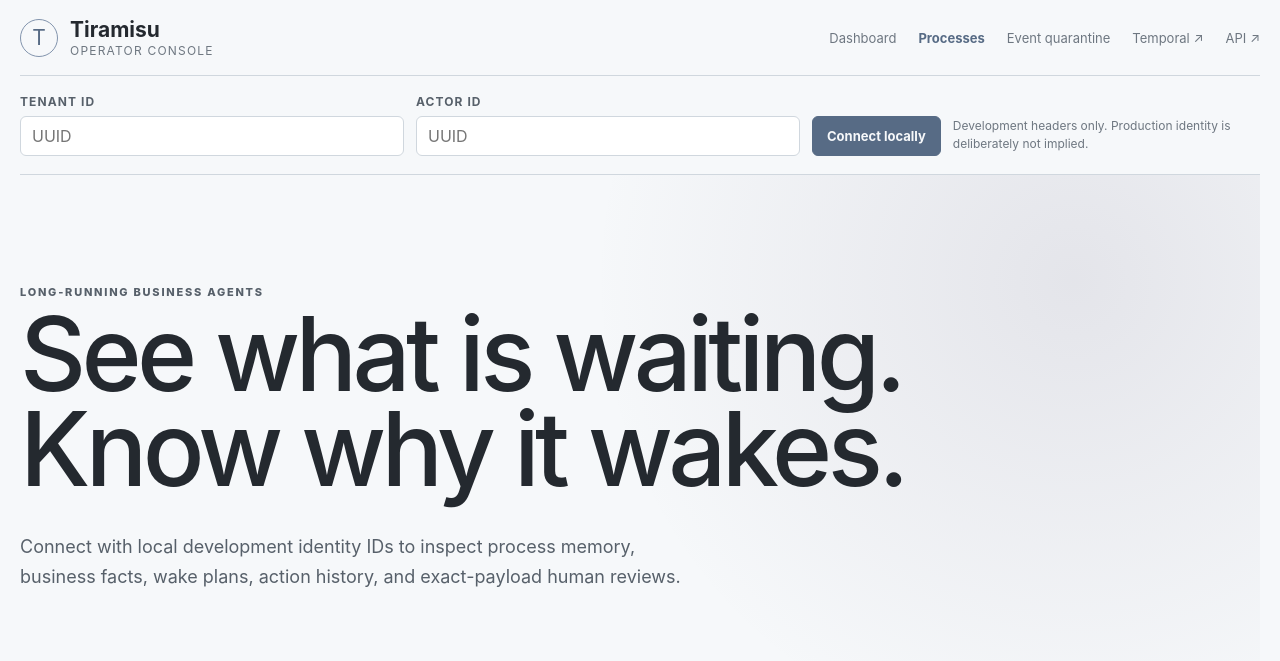
Test: operator console › loads durable state and submits an exact-payload approval
Type "tenant-id" into the field with test id "tenant-id".
click(212, 136); type("tenant-id")  # box x1=20 y1=116 x2=404 y2=156
Type "actor-id" into the field with test id "actor-id".
click(608, 136); type("actor-id")  # box x1=416 y1=116 x2=800 y2=156
Click the button with test id "connect".
click(876, 136)  # box x1=812 y1=116 x2=941 y2=156
(page scrolled)
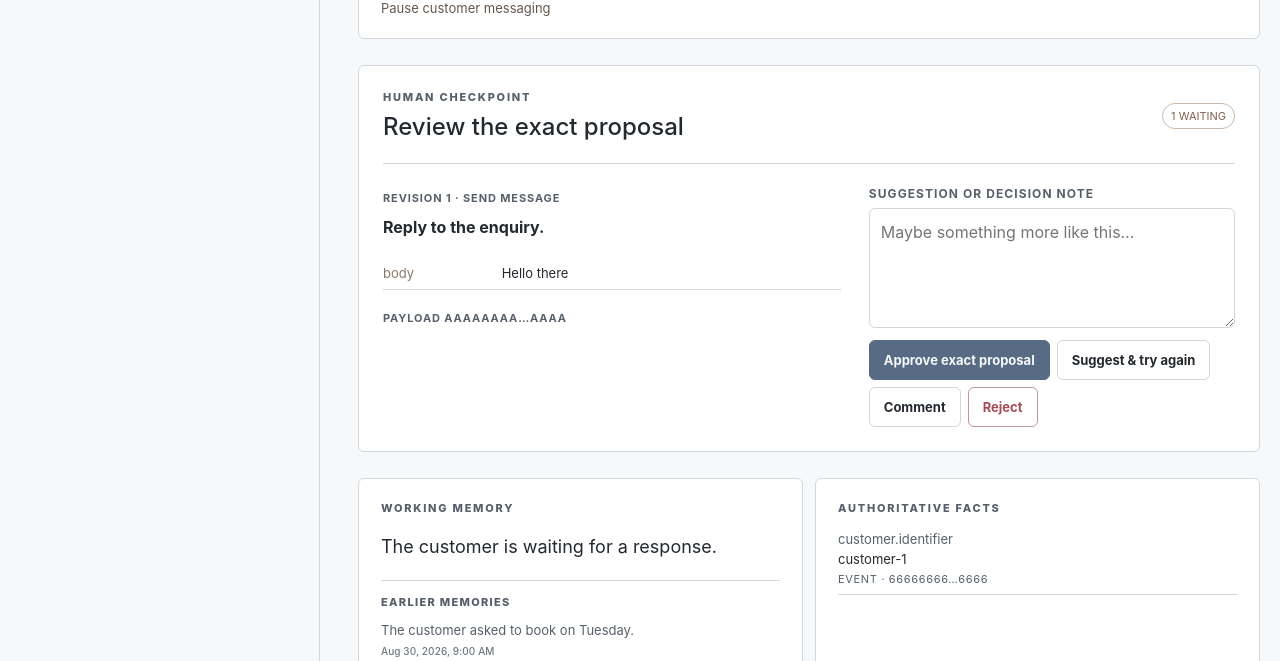
Expected: the element with test id "review-queue" shows "Hello there", x1=502 y1=265 x2=568 y2=281
Expected: the element with test id "memory-history" shows "The customer asked to book on Tuesday.", x1=381 y1=622 x2=634 y2=638
Expected: the text "event · 66666666…6666" is shown, x1=838 y1=572 x2=988 y2=586
Click the button "Approve exact proposal".
click(959, 360)  # box x1=869 y1=340 x2=1050 y2=380
(page scrolled)
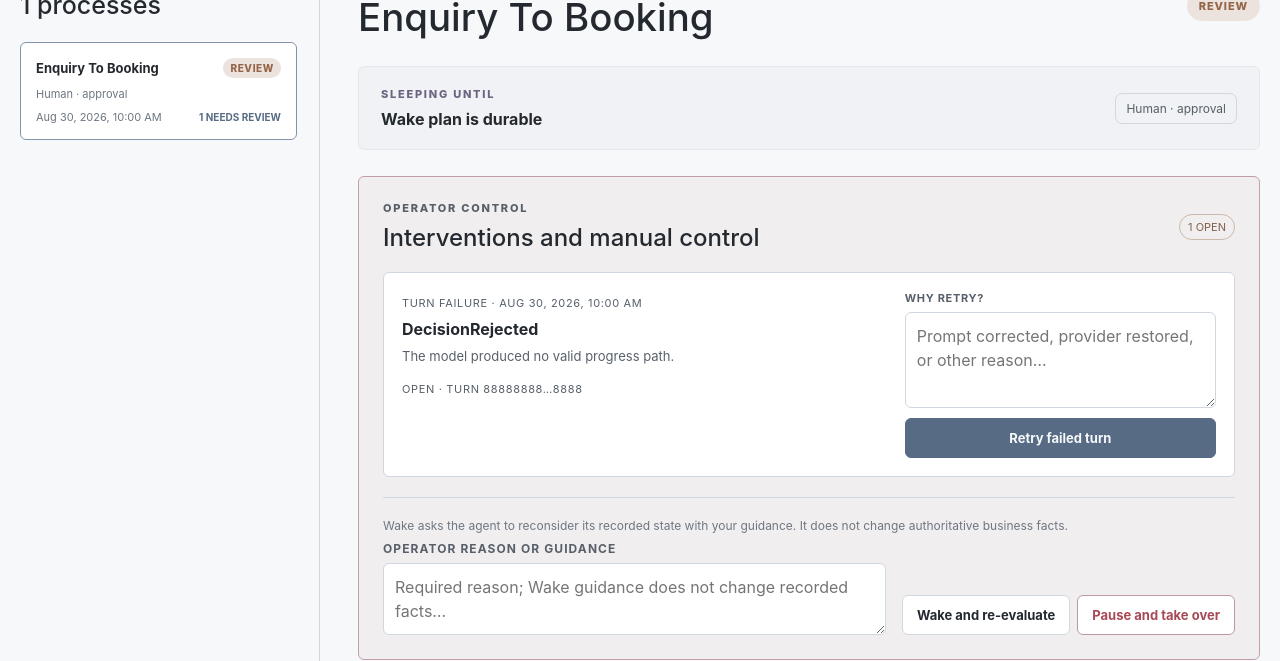
Type "The prompt and process policy have been corrected." into the text box labelled "Why retry?".
click(1060, 360); type("The prompt and process policy have been corrected.")  # box x1=905 y1=312 x2=1216 y2=408
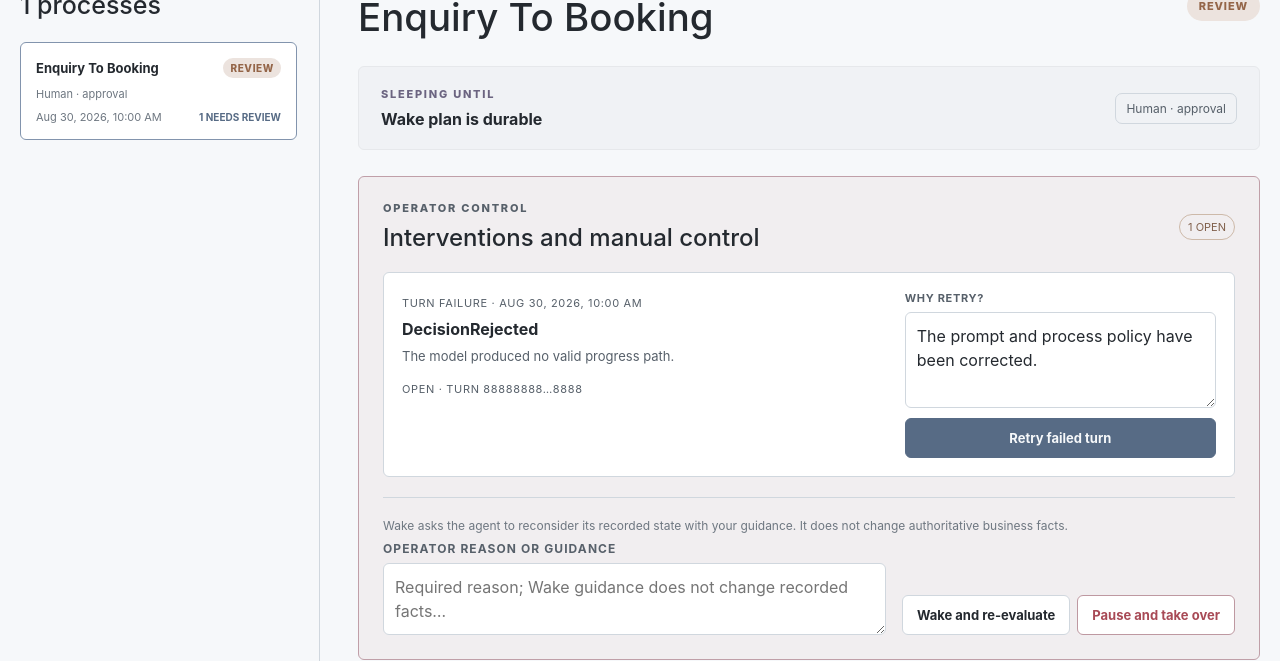
Click the button "Retry failed turn".
click(1060, 438)  # box x1=905 y1=418 x2=1216 y2=458
(page scrolled)
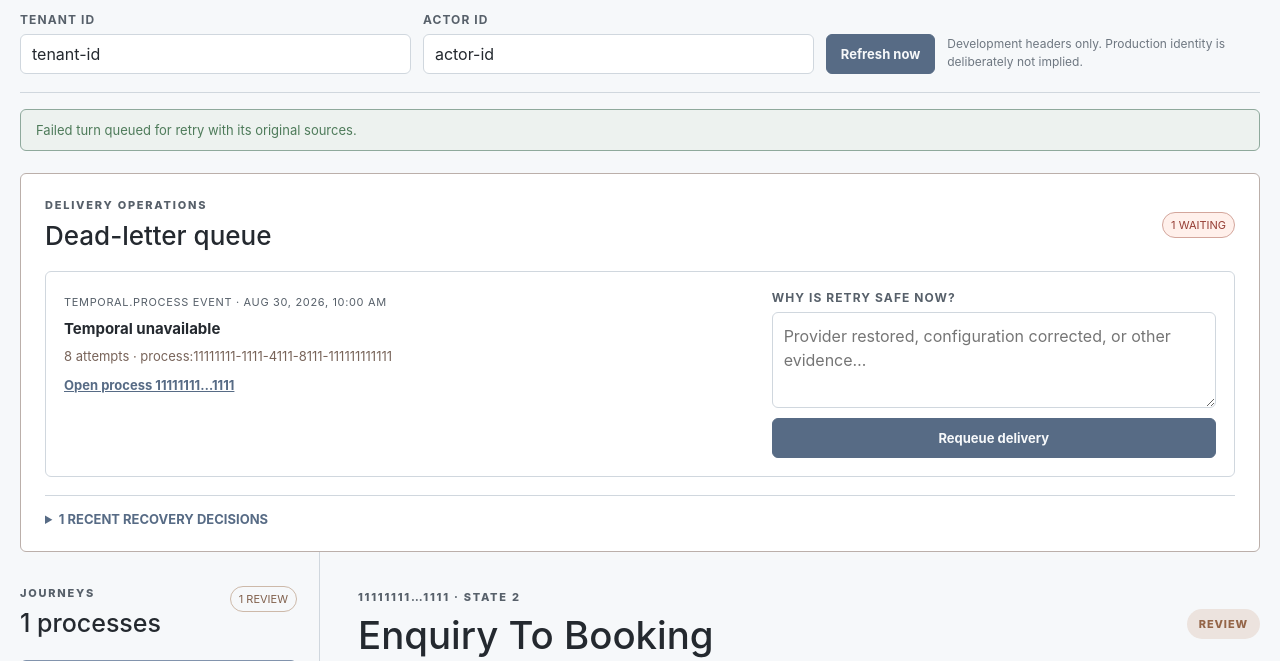
Expected: the text "Failed turn queued for retry" is shown, x1=36 y1=122 x2=357 y2=138
Replace the text in the text box labelled "Why is retry safe now?" with "Temporal cluster connectivity has been restored." at (994, 360), box x1=772 y1=312 x2=1216 y2=408
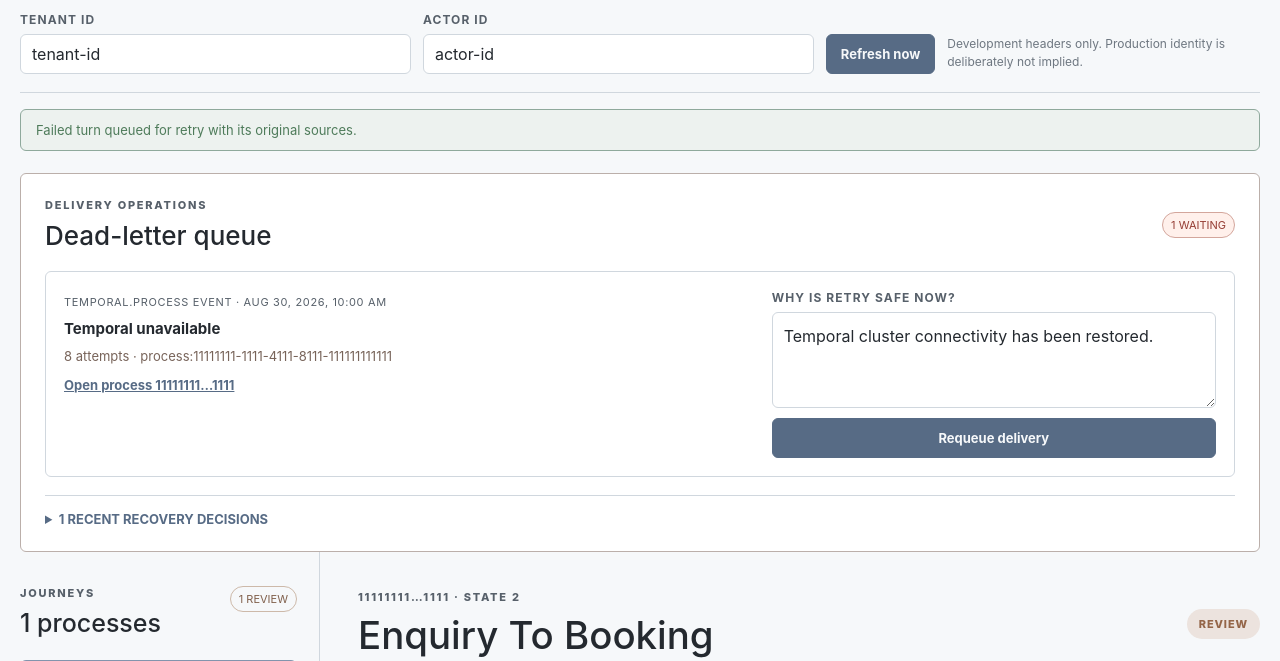
Click the button "Requeue delivery".
click(994, 438)  # box x1=772 y1=418 x2=1216 y2=458
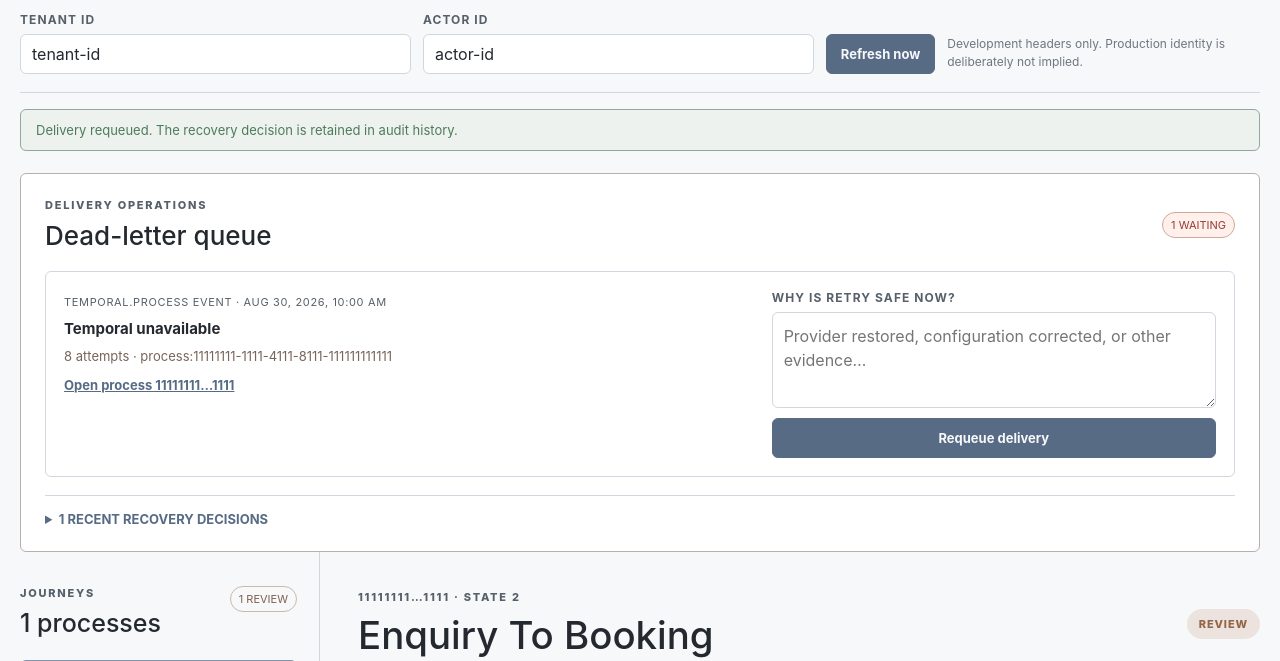
Expected: the text "Delivery requeued" is shown, x1=36 y1=122 x2=458 y2=138
